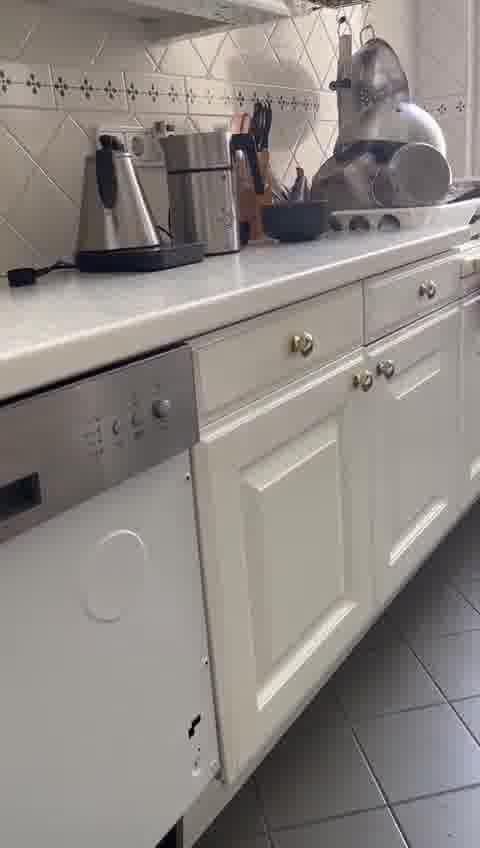cabinet_door: (209, 402, 373, 702), (372, 319, 480, 565), (199, 308, 365, 385), (370, 260, 478, 319)
handle: (286, 332, 316, 362), (346, 368, 376, 395), (373, 356, 401, 384), (418, 280, 442, 305)
